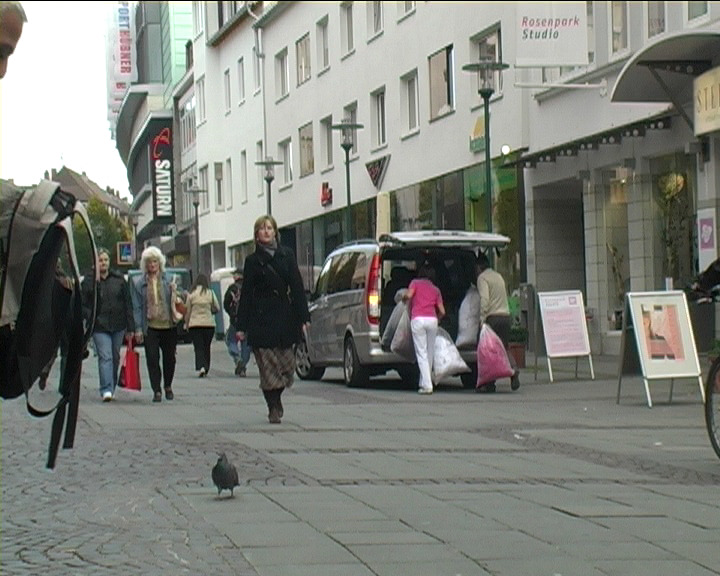undeflect: (246, 217, 296, 285)
